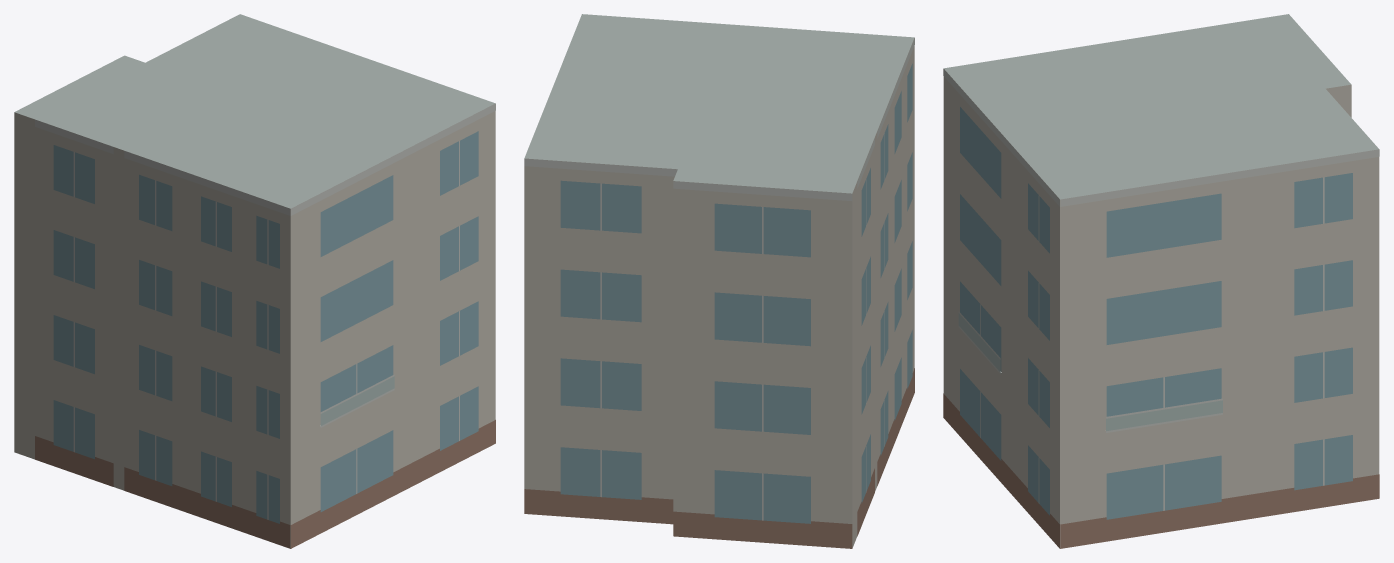
The model's file is survey-upis-32843211.glb.
3 views of the same model, side by side, from view 1: azimuth 30°, elevation 25°; view 2: azimuth 150°, elevation 25°; view 3: azimuth 270°, elevation 25° (orthographic). The views are drawn at different scales.
Parts seen in each view (by area): view 1: survey-upis-32843211.tmp; view 2: survey-upis-32843211.tmp; view 3: survey-upis-32843211.tmp.
Part boxes in pixels (x1,y1,x2,y2): survey-upis-32843211.tmp: (14, 14, 495, 548); survey-upis-32843211.tmp: (524, 14, 914, 548); survey-upis-32843211.tmp: (943, 14, 1379, 548).
Size of the model in its own units: 12.88 by 11.3 by 12.79.
